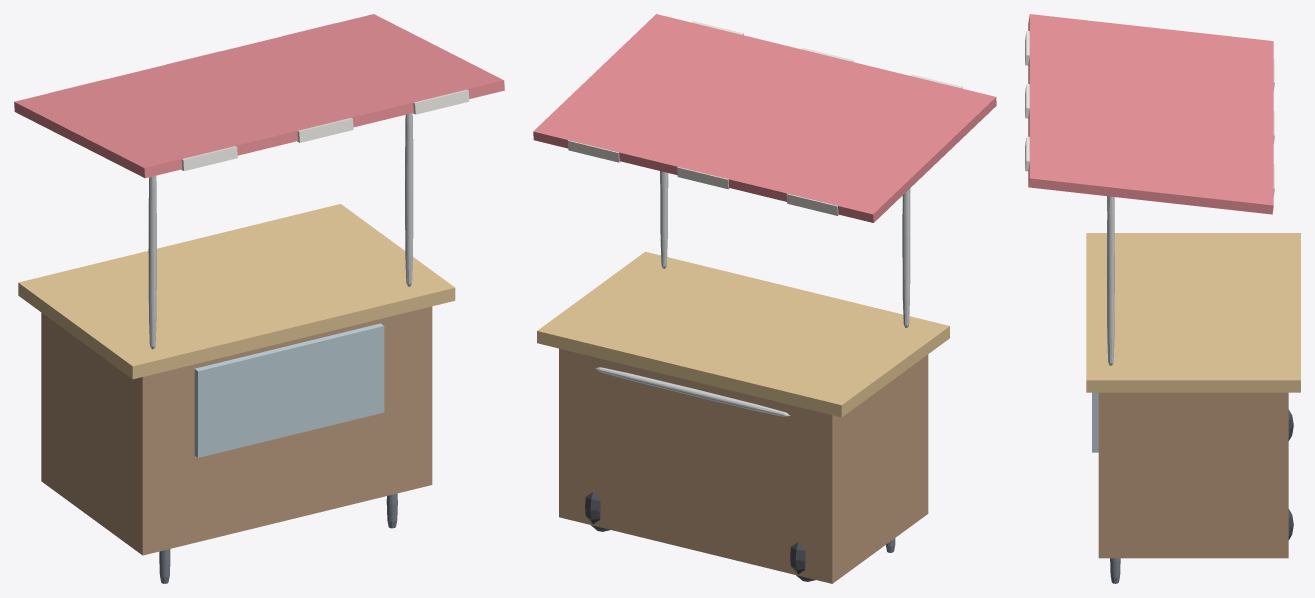
The model's file is carrinho.glb.
3 renders of one model, left to right at view 1: azimuth 30°, elevation 25°; view 2: azimuth 150°, elevation 25°; view 3: azimuth 270°, elevation 25°, orthographic. The views are drawn at different scales.
Visible parts, largest first — view 1: CarrinhoCamelo; view 2: CarrinhoCamelo; view 3: CarrinhoCamelo.
Part boxes in pixels (<box>): CarrinhoCamelo: <box>14,14,504,583</box>; CarrinhoCamelo: <box>533,14,996,583</box>; CarrinhoCamelo: <box>1025,14,1300,583</box>.
Size of the model in its own units: 1.74 by 2.15 by 1.23.
